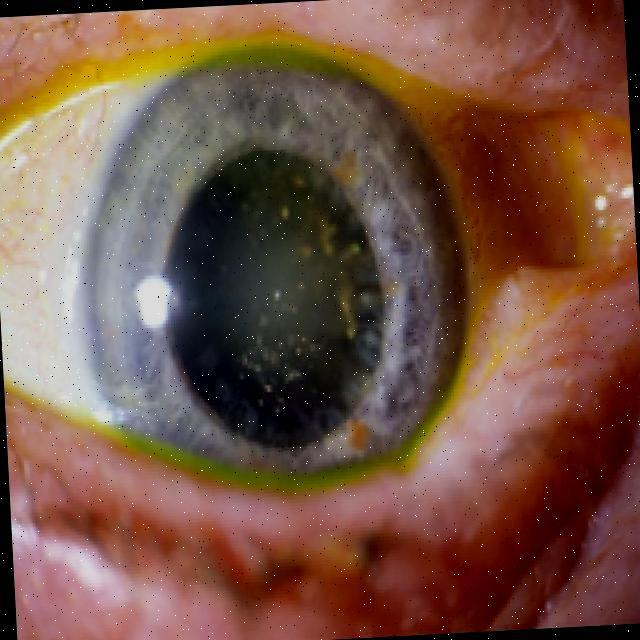Cataract: (73, 64, 445, 500)
